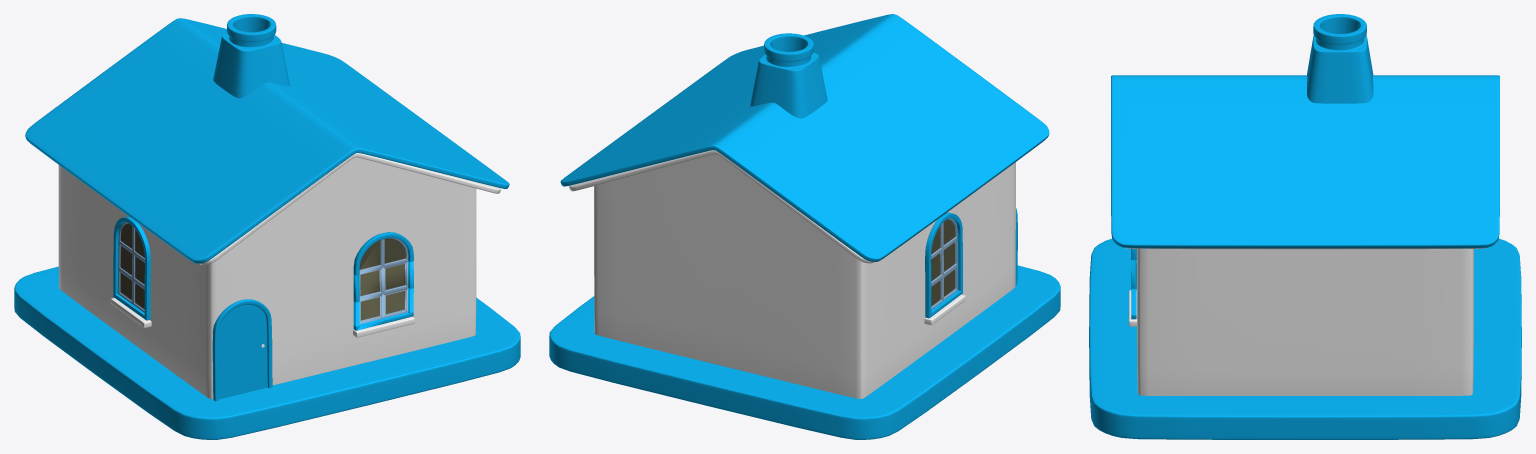
Rendered from house1.glb.
The picture shows the model from 3 angles, left to right: view 1: azimuth 30°, elevation 25°; view 2: azimuth 150°, elevation 25°; view 3: azimuth 270°, elevation 25°; orthographic projection. The views are drawn at different scales.
Parts seen in each view (by area): view 1: Cube.003, Cube.001, Cube, Circle, Circle.002, Plane, Circle.008, Cube.002, Cube.004; view 2: Cube.001, Cube.003, Cube, Plane, Circle.008, Cube.002; view 3: Cube.003, Cube.001, Cube, Plane, Cube.002, Circle.002.
Boxes of the visible parts, left/top/right/bottom form: Cube.003: left=25, top=18, right=509, bottom=263; Cube.001: left=58, top=157, right=476, bottom=399; Cube: left=14, top=266, right=520, bottom=439; Circle: left=212, top=299, right=272, bottom=401; Circle.002: left=353, top=232, right=413, bottom=330; Plane: left=213, top=14, right=289, bottom=98; Circle.008: left=113, top=216, right=150, bottom=320; Cube.002: left=199, top=153, right=500, bottom=264; Cube.004: left=353, top=316, right=414, bottom=337; Cube.001: left=594, top=154, right=1015, bottom=398; Cube.003: left=560, top=14, right=1049, bottom=261; Cube: left=549, top=265, right=1060, bottom=439; Plane: left=750, top=33, right=827, bottom=118; Circle.008: left=925, top=212, right=962, bottom=318; Cube.002: left=569, top=150, right=873, bottom=263; Cube.003: left=1111, top=75, right=1499, bottom=248; Cube.001: left=1137, top=249, right=1473, bottom=395; Cube: left=1089, top=238, right=1521, bottom=439; Plane: left=1306, top=14, right=1373, bottom=103; Cube.002: left=1124, top=247, right=1486, bottom=249; Circle.002: left=1131, top=248, right=1136, bottom=319.
Bounding box in the file's own units: 7.78 × 6.43 × 7.78.
